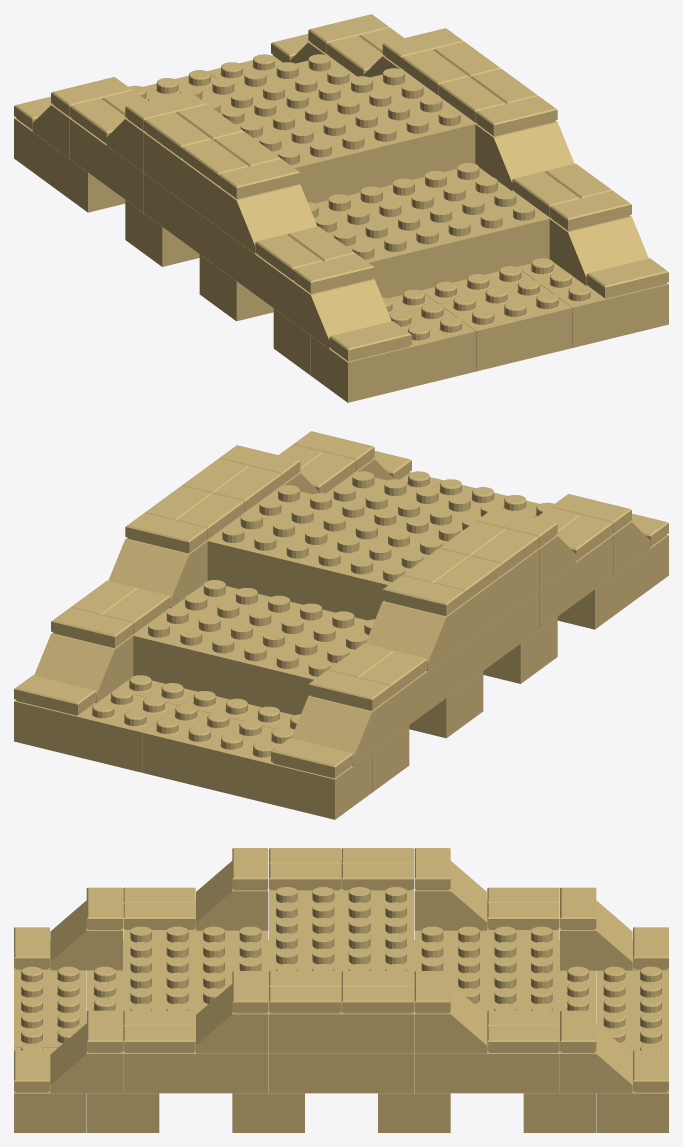
Rendered from Bridge.fbx.
3 views of the same model, one above another, from view 1: azimuth 30°, elevation 25°; view 2: azimuth 150°, elevation 25°; view 3: azimuth 270°, elevation 25° (orthographic).
Visible parts, largest first — view 1: Part.10, Part.7, Part.1, Part.12, Part.2, Part.3, Part.19, Part.20, Part.21, Part.22, Part.9, Part.8 (+36 smaller); view 2: Part.10, Part.12, Part.18, Part.7, Part.16, Part.26, Part.25, Part.24, Part.23, Part.17, Part.9, Part.11 (+35 smaller); view 3: Part.10, Part.7, Part.12, Part.9, Part.18, Part.16, Part.19, Part.26, Part.22, Part.23, Part.20, Part.25 (+40 smaller).
Boxes of the visible parts, x1=… form: Part.10: x1=144, y1=68, x2=476, y2=226; Part.7: x1=218, y1=163, x2=551, y2=321; Part.1: x1=311, y1=303, x2=475, y2=402; Part.12: x1=69, y1=54, x2=356, y2=212; Part.2: x1=440, y1=279, x2=572, y2=371; Part.3: x1=536, y1=271, x2=668, y2=347; Part.19: x1=549, y1=215, x2=648, y2=285; Part.20: x1=292, y1=278, x2=391, y2=348; Part.21: x1=218, y1=183, x2=317, y2=253; Part.22: x1=475, y1=120, x2=574, y2=191; Part.9: x1=144, y1=169, x2=456, y2=266; Part.8: x1=199, y1=254, x2=273, y2=321; Part.10: x1=206, y1=485, x2=538, y2=643; Part.12: x1=131, y1=580, x2=464, y2=738; Part.18: x1=142, y1=704, x2=293, y2=803; Part.7: x1=326, y1=471, x2=613, y2=629; Part.16: x1=14, y1=688, x2=178, y2=772; Part.26: x1=34, y1=632, x2=133, y2=702; Part.25: x1=291, y1=695, x2=390, y2=765; Part.24: x1=365, y1=600, x2=464, y2=670; Part.23: x1=108, y1=537, x2=207, y2=608; Part.17: x1=271, y1=753, x2=371, y2=819; Part.9: x1=226, y1=586, x2=538, y2=683; Part.11: x1=409, y1=671, x2=483, y2=738; Part.10: x1=269, y1=861, x2=413, y2=1053; Part.7: x1=123, y1=900, x2=268, y2=1093; Part.12: x1=414, y1=900, x2=559, y2=1093; Part.9: x1=269, y1=1053, x2=413, y2=1093; Part.18: x1=596, y1=966, x2=668, y2=1031; Part.16: x1=596, y1=1028, x2=668, y2=1132; Part.19: x1=50, y1=1023, x2=122, y2=1093; Part.26: x1=560, y1=1023, x2=632, y2=1093; Part.22: x1=196, y1=984, x2=268, y2=1053; Part.23: x1=414, y1=984, x2=486, y2=1053; Part.20: x1=50, y1=900, x2=122, y2=970; Part.25: x1=560, y1=900, x2=632, y2=970.
Size of the model in its own units: 7992 by 3196 by 14392.
